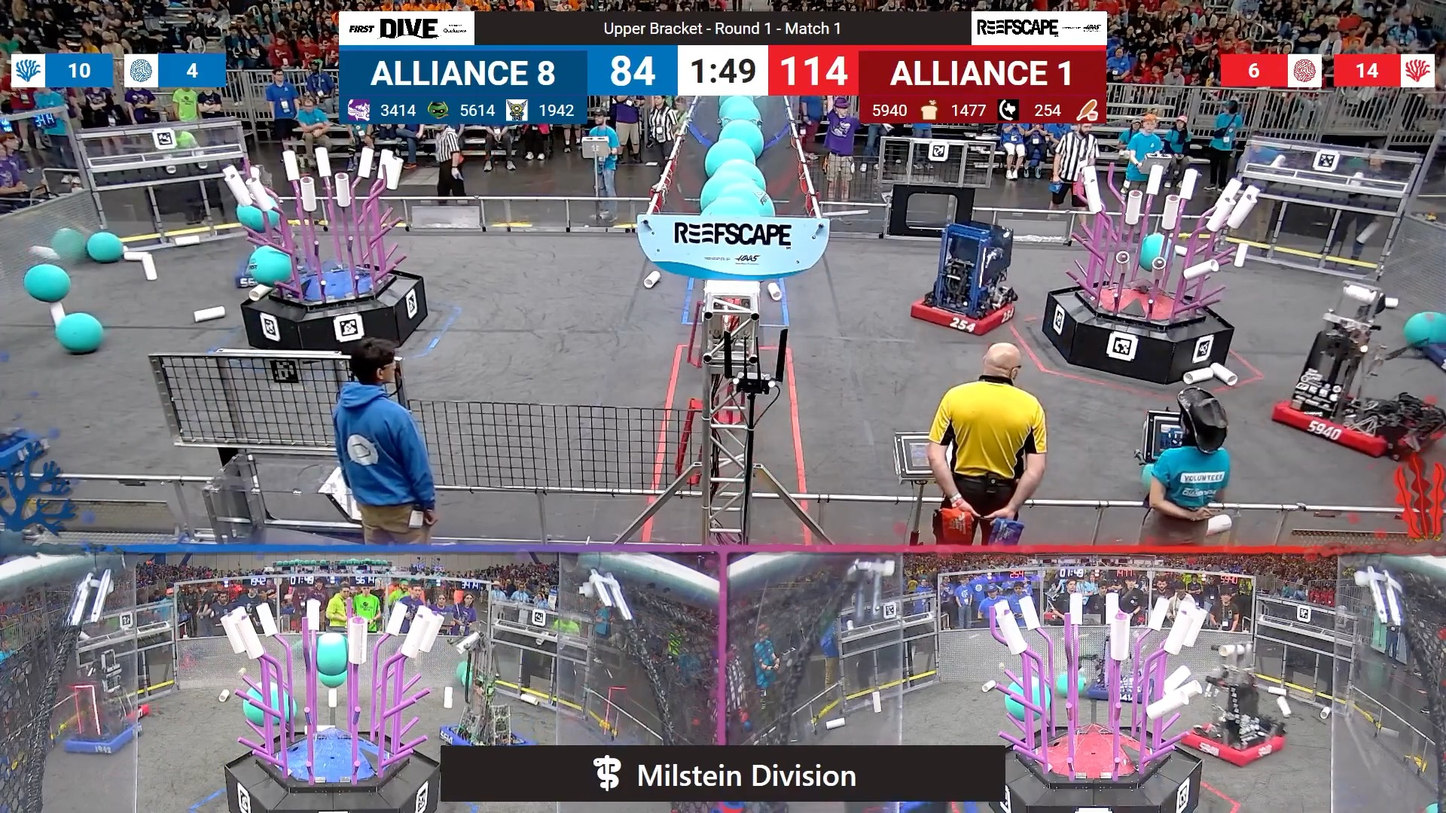bumpers: (1265, 386, 1432, 461), (1174, 713, 1291, 764), (912, 282, 1020, 335), (56, 713, 149, 768), (0, 422, 56, 485), (428, 721, 538, 750), (229, 255, 305, 294)
